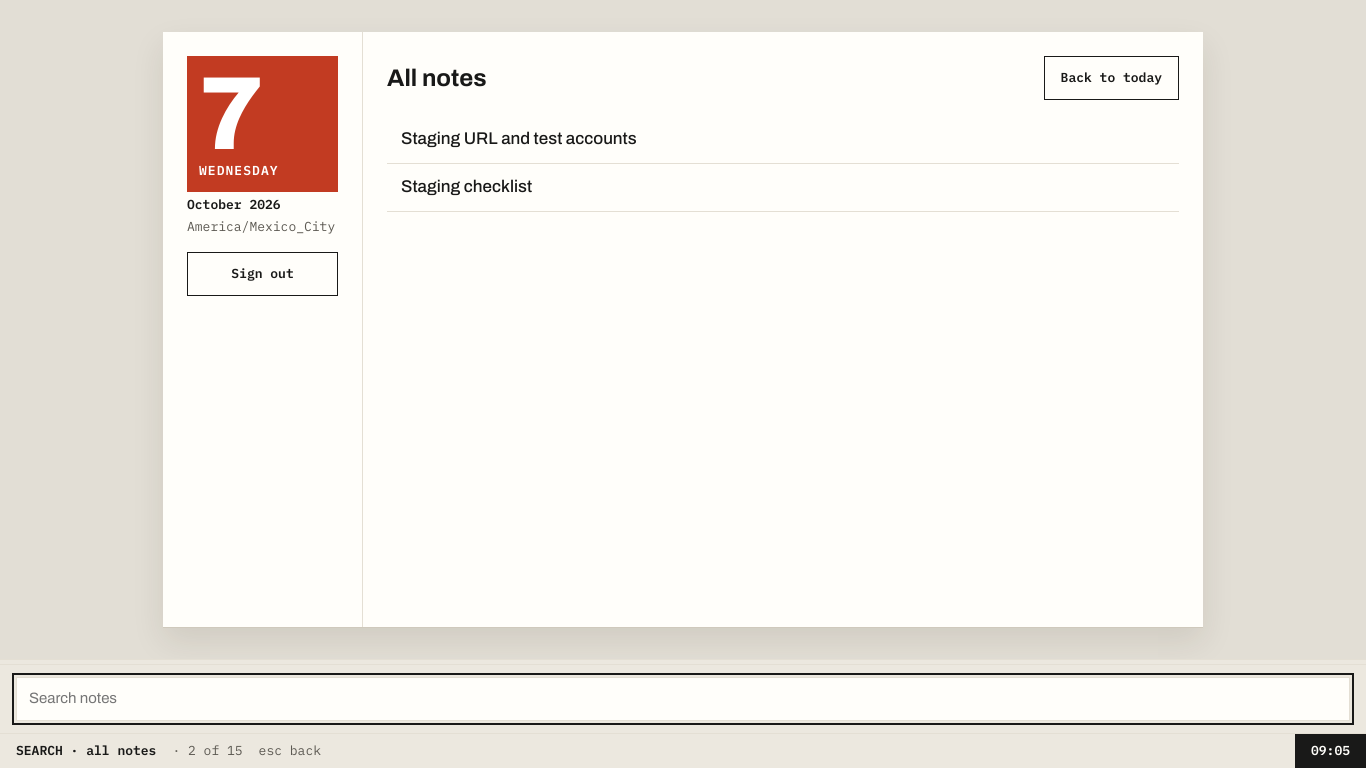
Test case: discards the answer of a stale term that arrives late
Type "a" into the field named "Search your notes". click: (683,699)
box: [16,677,1350,721]
Wait 200 ms
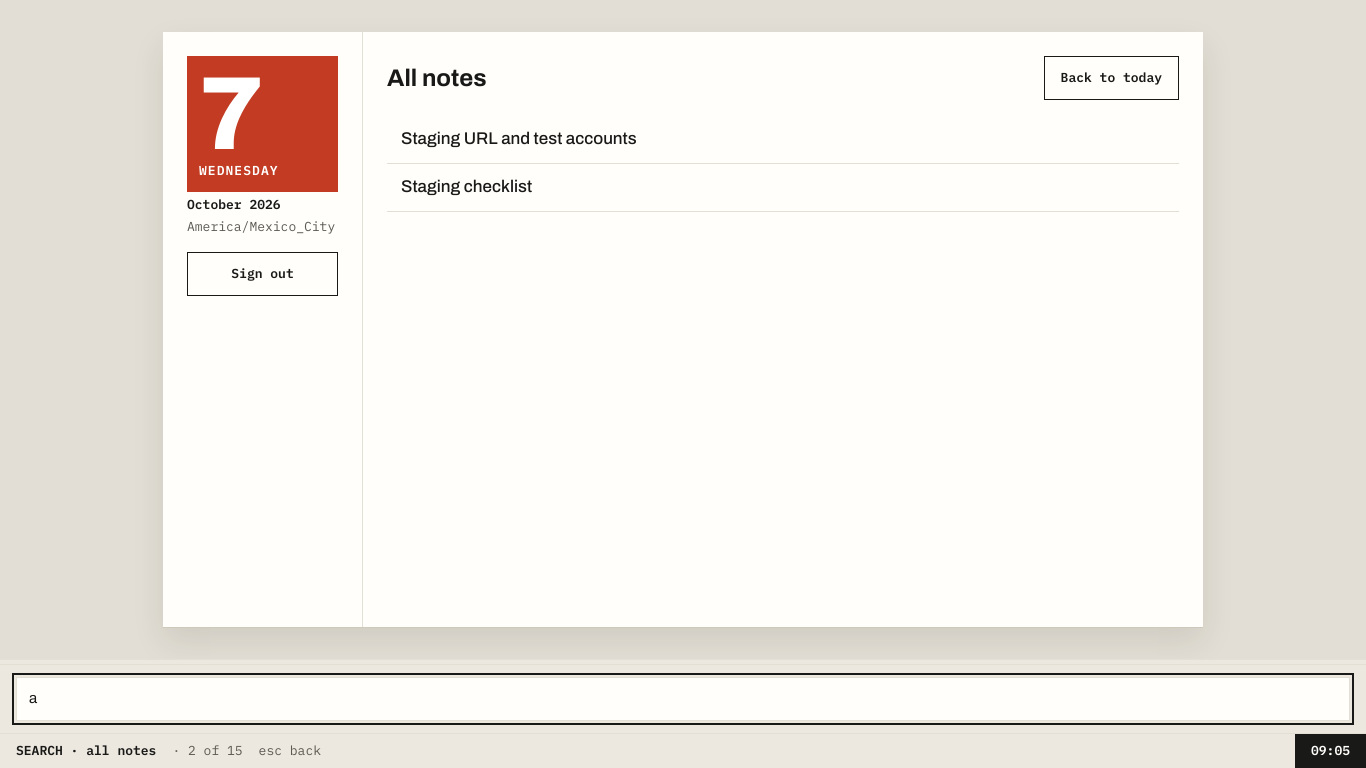
Replace the text in the field named "Search your notes" with "ab". click: (683,699)
box: [16,677,1350,721]
Wait 200 ms
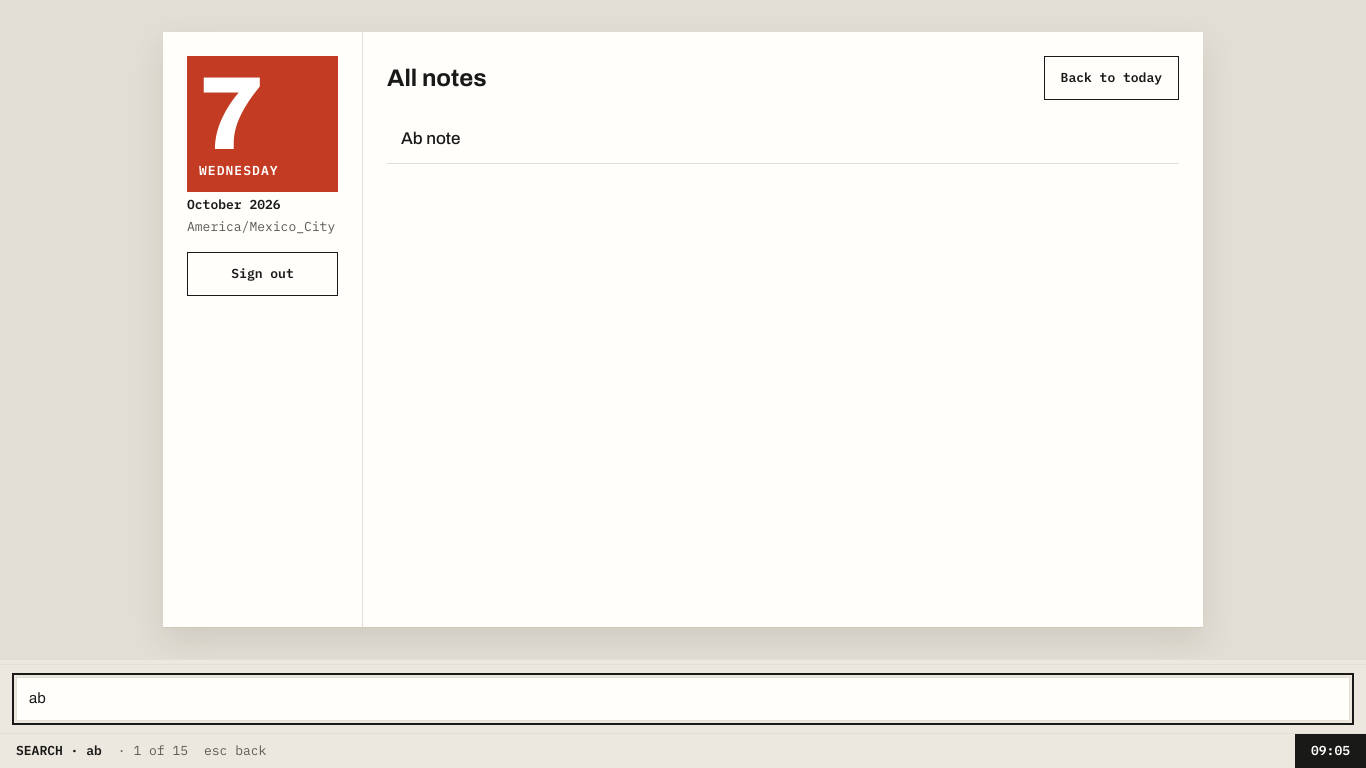
Now the number of list items is 1, box [387,116,1179,164]
Now the text "Ab note" is shown, box [401,129,460,148]
Now the footer shows "SEARCH · ab · 1 of 15", box [0,733,1365,767]
